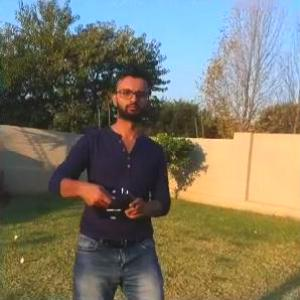follow: (42, 55, 170, 299)
